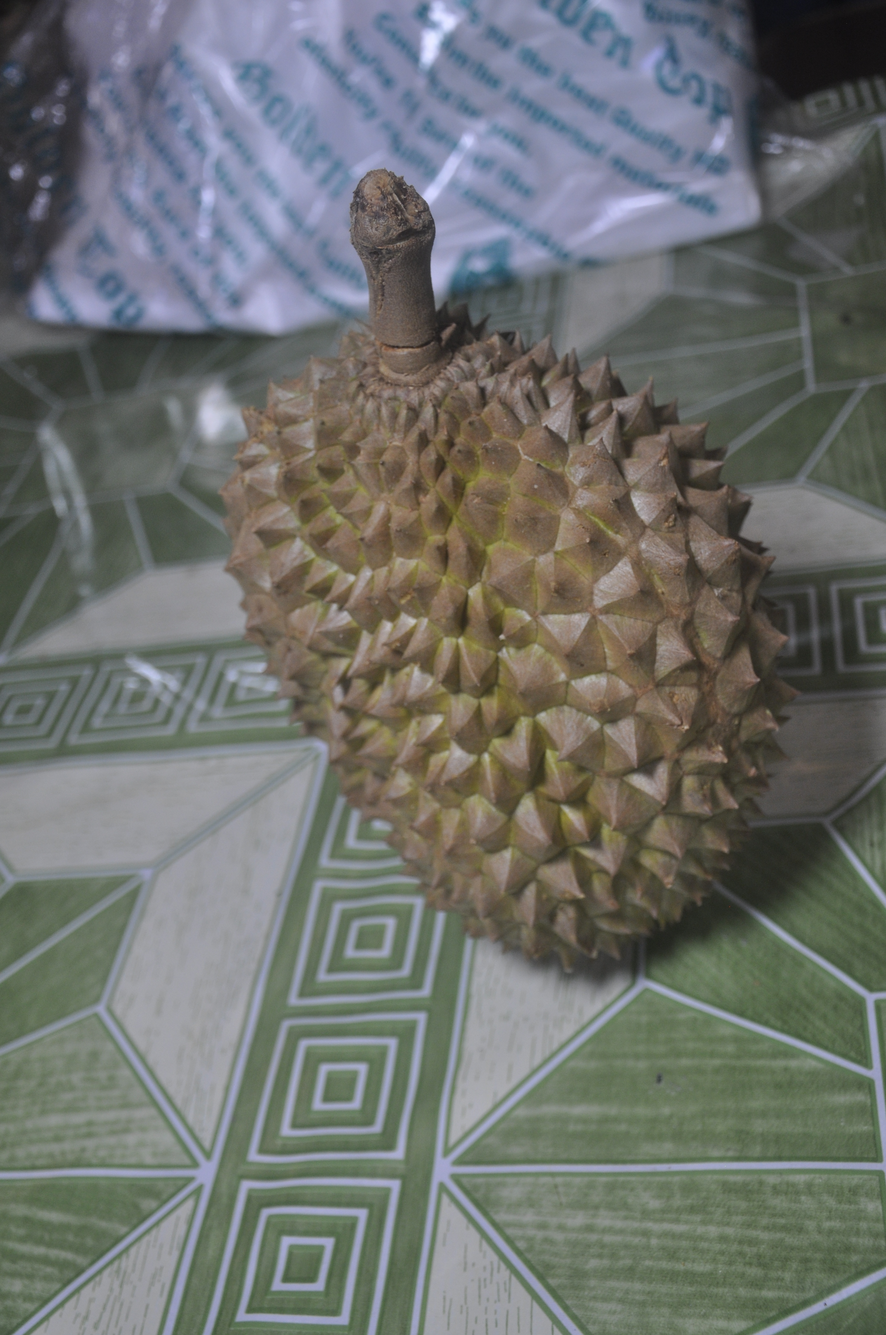mature: (222, 169, 795, 968)
